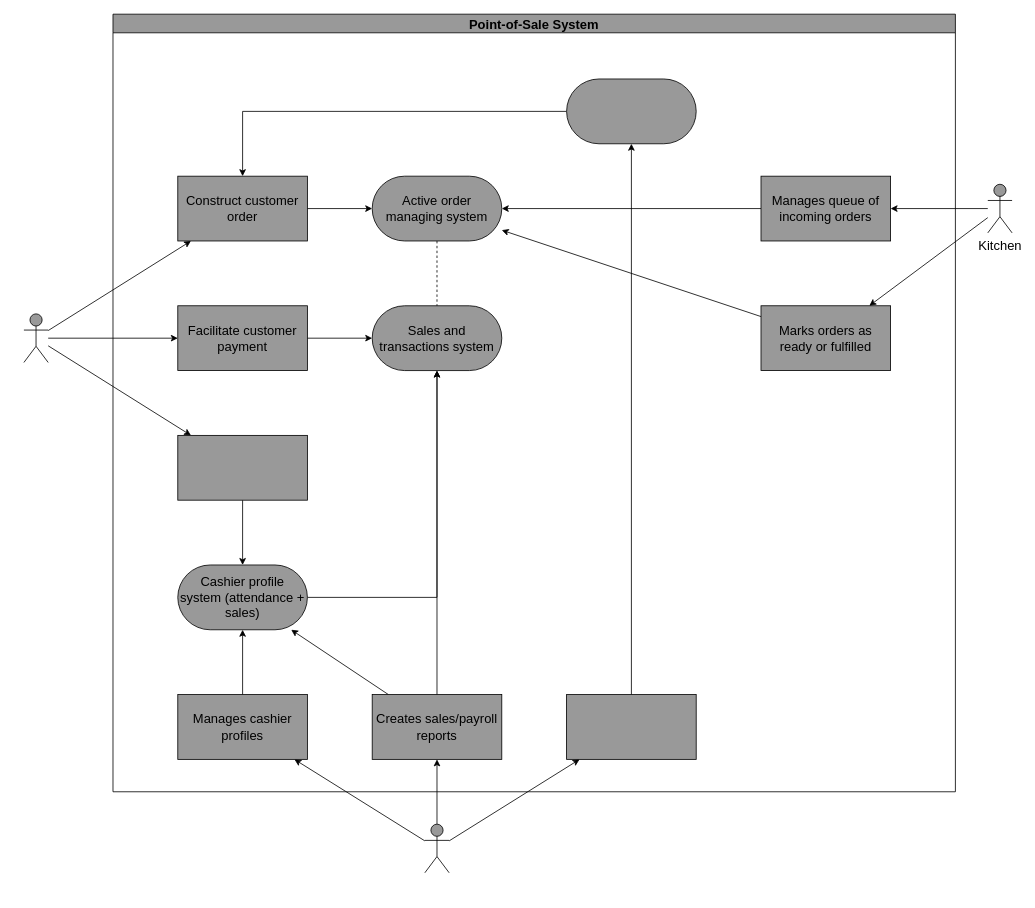
This 1035x908 diagram has some shape labels left out. Here are the shapes that lost their labels. From the top down, the centre of each, then its label:
pixel 631 111: Menu repository
pixel 35 337: Cashier
pixel 242 467: Clock in + clock out
pixel 631 726: Defines menu items + prices
pixel 436 848: Administrator
